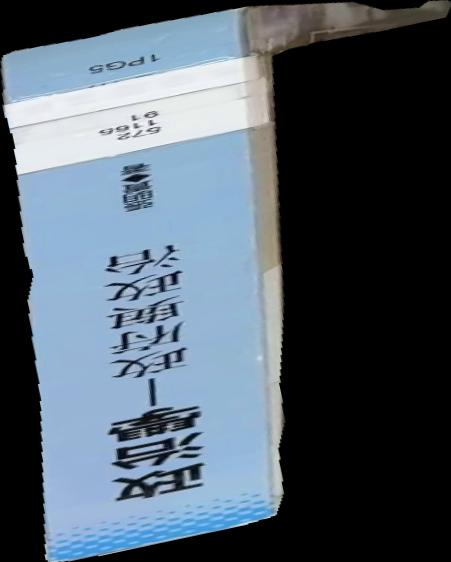reverse: (1, 1, 451, 562)
